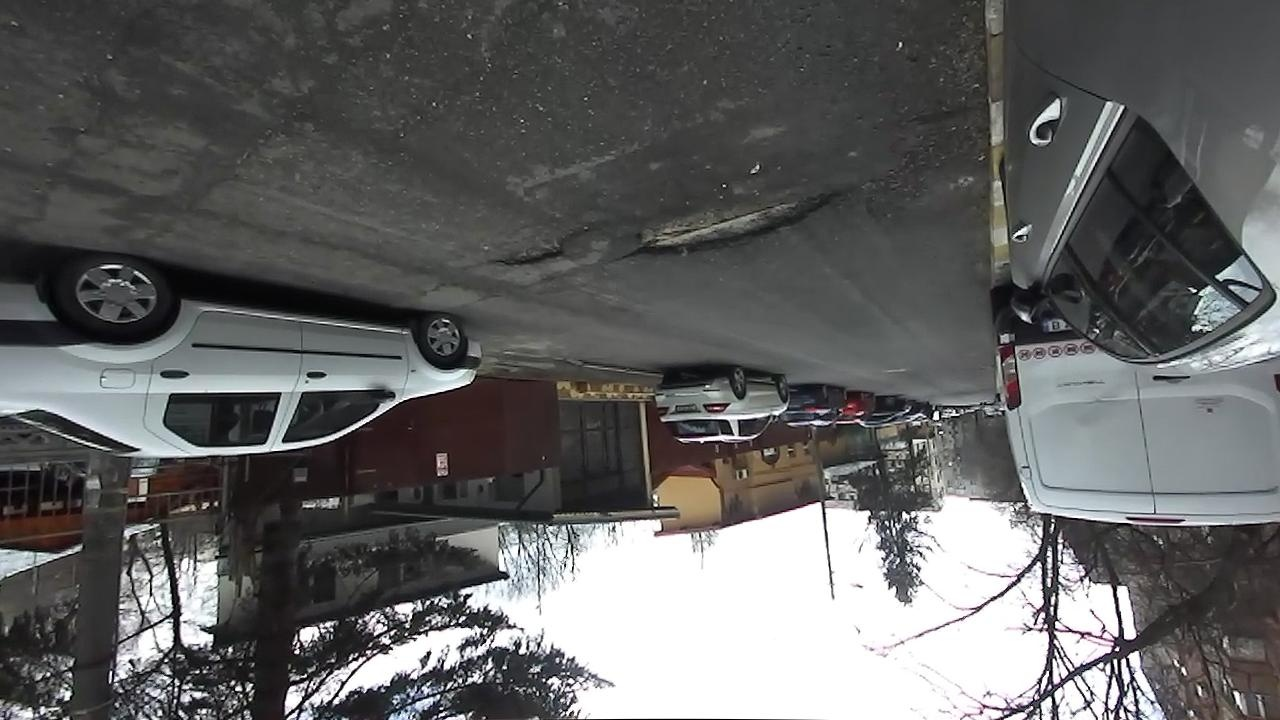pothole: (626, 186, 843, 260), (485, 226, 582, 269)
